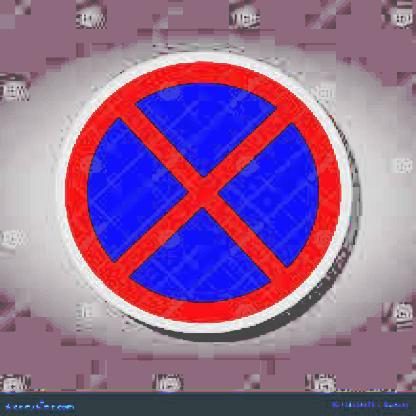No stopping: (64, 51, 354, 342)
